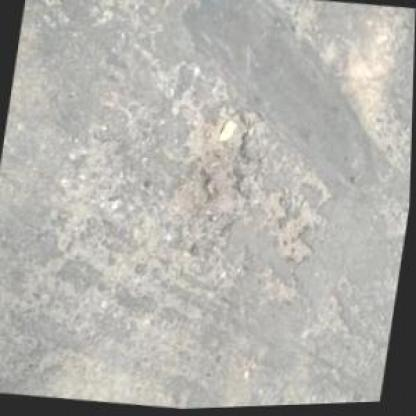pothole: (166, 97, 269, 252), (254, 169, 333, 272)
